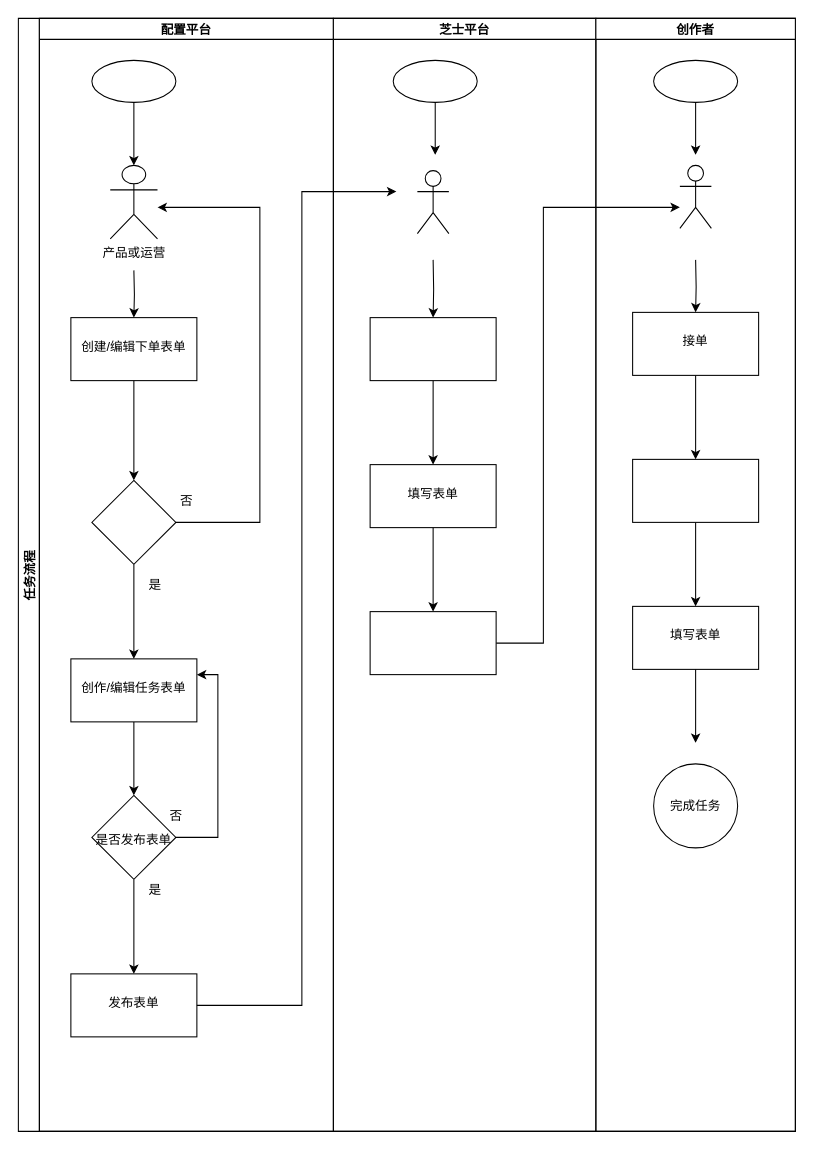
The diagram is 814 pixels wide and 1150 high, and some of its shapes have lost their labels. The centre of each missing label's shape, as x and y in pixels:
"PU" belongs at (x=695, y=196).
"下单" belongs at (x=432, y=643).
"做任务" belongs at (x=695, y=490).
"客户" belongs at (x=432, y=202).
"是否制作下单表单" belongs at (x=133, y=521).
"选择任务" belongs at (x=432, y=349).
